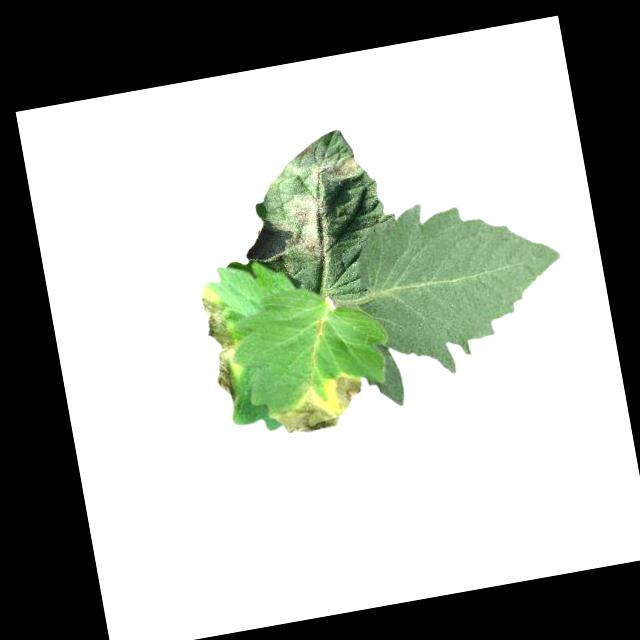Late_blight: (264, 370, 369, 439), (199, 285, 248, 409), (239, 211, 298, 264), (309, 152, 363, 190), (289, 190, 329, 225), (297, 227, 330, 264)
healthy: (347, 180, 578, 388)
